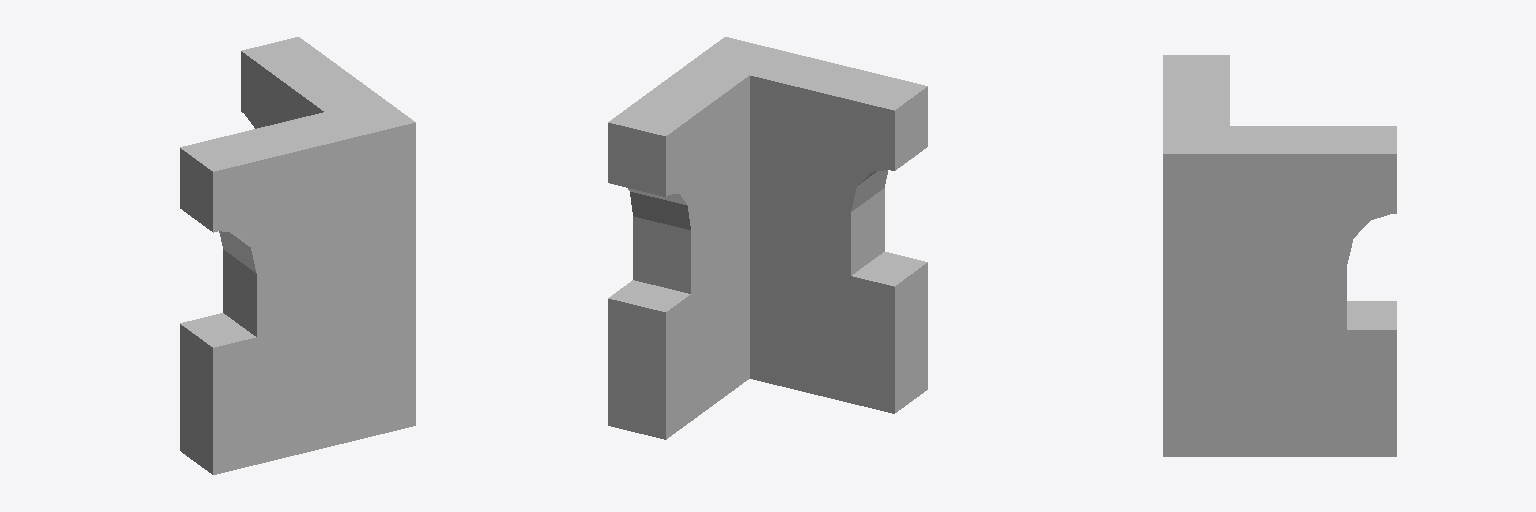
Rendered from building_0000-1000.obj.
The picture shows the model from 3 angles: view 1: azimuth 30°, elevation 25°; view 2: azimuth 150°, elevation 25°; view 3: azimuth 270°, elevation 25°; orthographic projection.
Visible parts, largest first — view 1: building_0000-1000_Cube.019; view 2: building_0000-1000_Cube.019; view 3: building_0000-1000_Cube.019.
Part boxes in pixels (x1,y1,x2,y2): building_0000-1000_Cube.019: (180, 37, 415, 474); building_0000-1000_Cube.019: (608, 37, 927, 439); building_0000-1000_Cube.019: (1163, 55, 1396, 456).
Size of the model in its own units: 0.7 by 1 by 0.7.